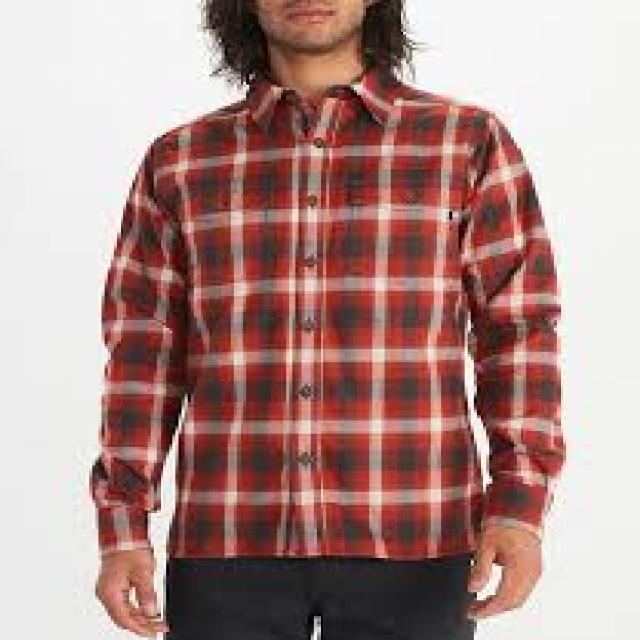plaid: (68, 75, 565, 555)
